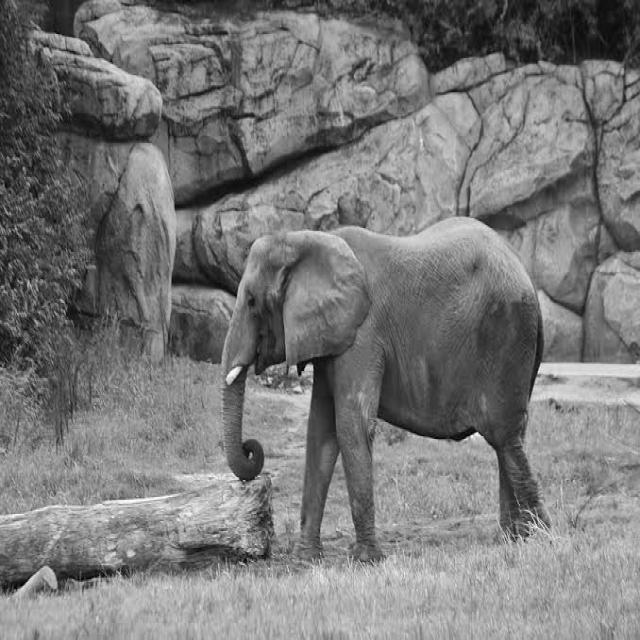Elephant: (219, 214, 551, 565)
